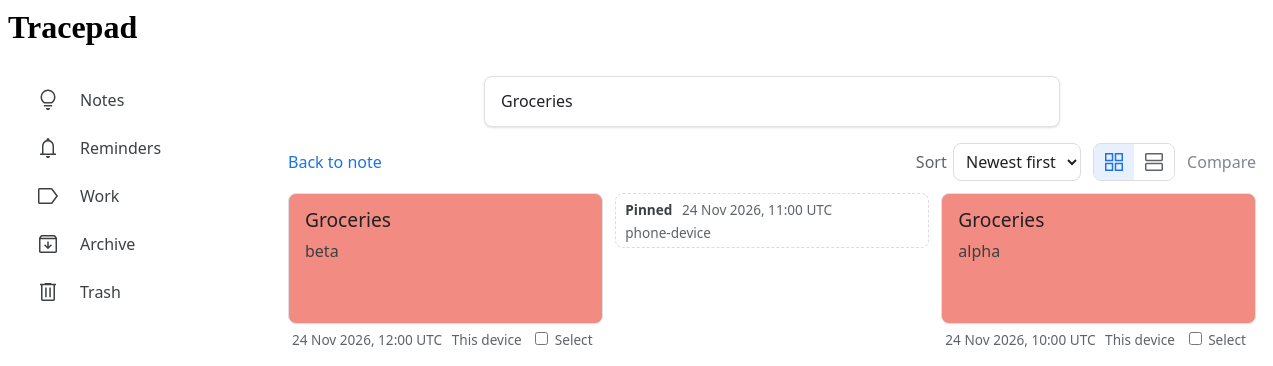
Scenario: history page › compares two versions in green and red
Click the checkbox named "Select Groceries: beta".
click(542, 339)  # box top-left (535, 332), bottom-right (548, 345)
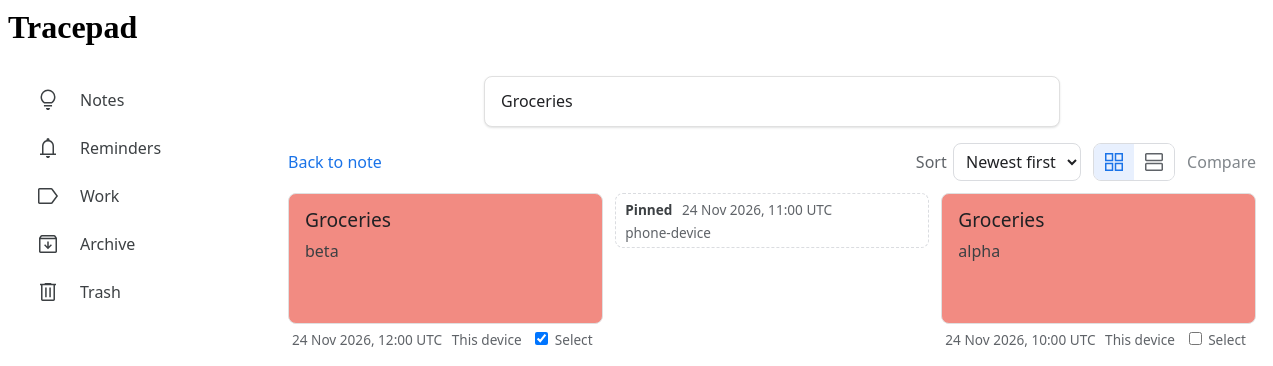
Click the checkbox named "Select Groceries: alpha".
click(1195, 339)  # box top-left (1189, 332), bottom-right (1202, 345)
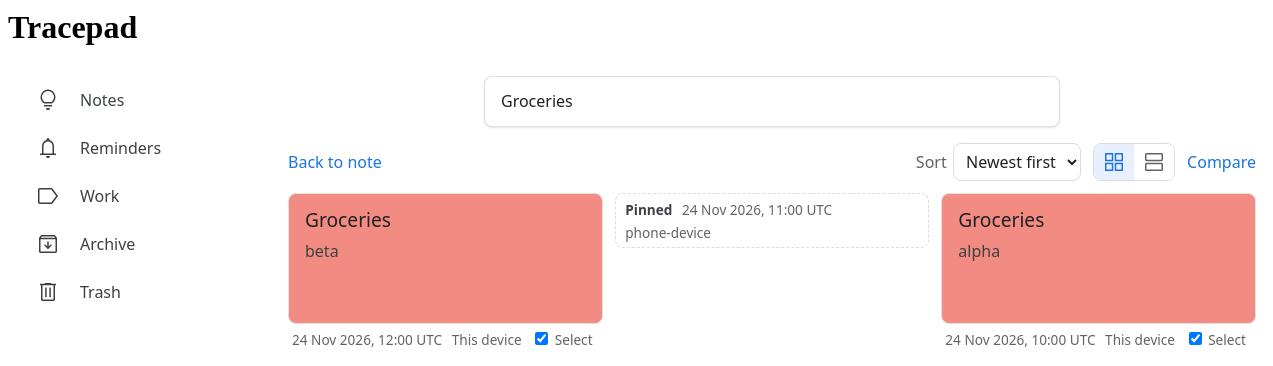
Click the button "Compare".
click(1222, 162)  # box top-left (1187, 148), bottom-right (1256, 176)
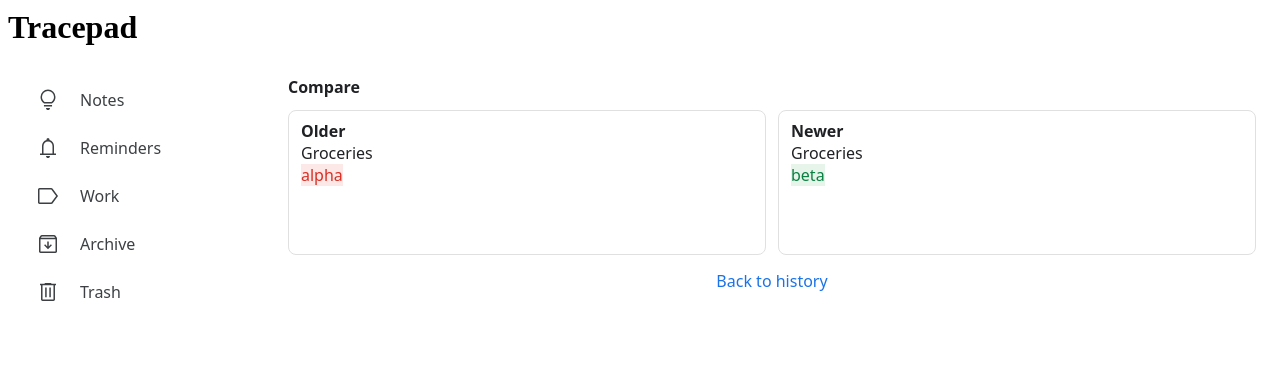
Expected: the text with class "diff-removed" reads "alpha", top-left (301, 164), bottom-right (343, 186)
Expected: the text with class "diff-added" reads "beta", top-left (791, 164), bottom-right (825, 186)
Click the button "Back to history".
click(772, 281)  # box top-left (288, 267), bottom-right (1256, 296)
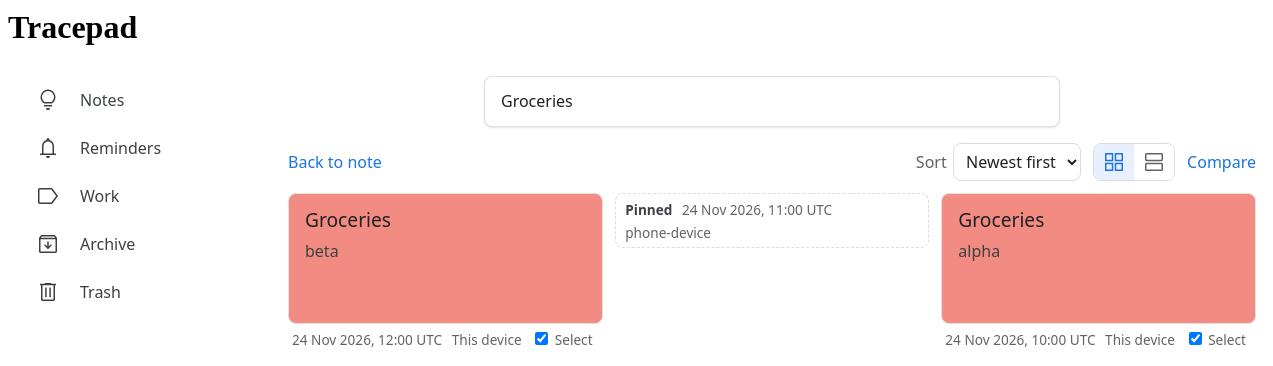
Expected: the list named "History" is shown, top-left (288, 193), bottom-right (1256, 349)
